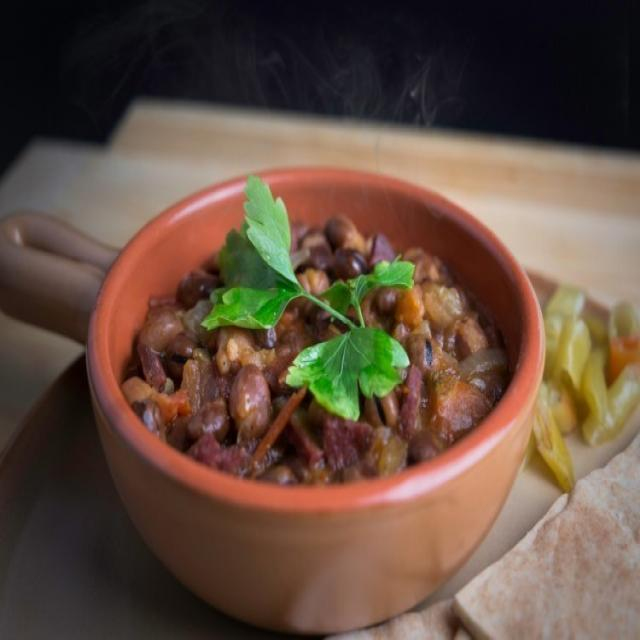fool: (123, 224, 509, 495)
